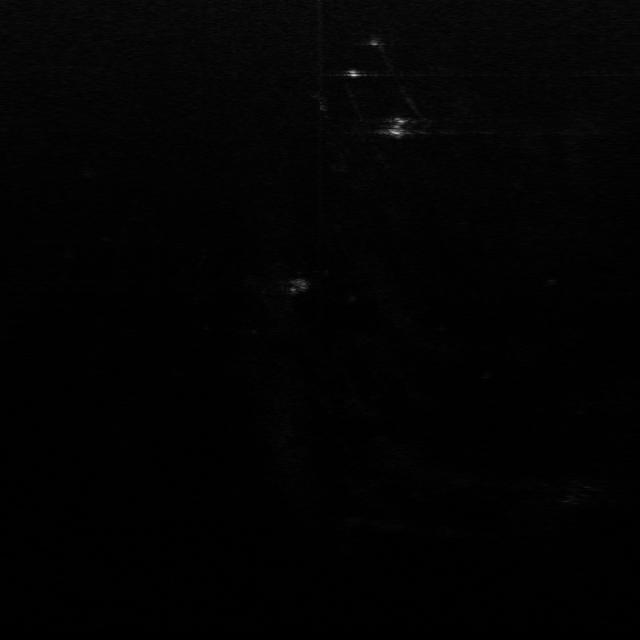rov: (384, 113, 412, 136)
